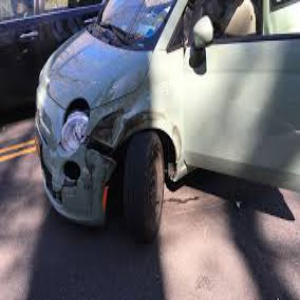bumper: (53, 152, 117, 230)
head_lights: (53, 97, 94, 157)
